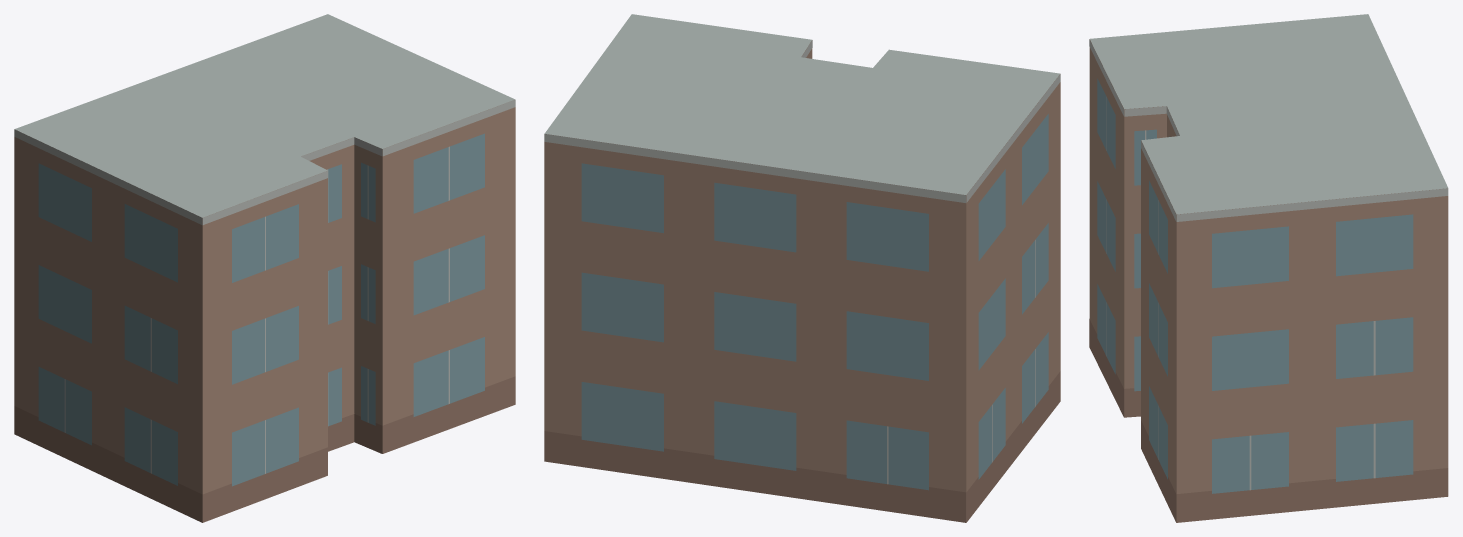
The model's file is survey-upis-32710149.glb.
3 renders of one model, left to right at view 1: azimuth 30°, elevation 25°; view 2: azimuth 150°, elevation 25°; view 3: azimuth 270°, elevation 25°, orthographic. The views are drawn at different scales.
Parts seen in each view (by area): view 1: survey-upis-32710149.tmp; view 2: survey-upis-32710149.tmp; view 3: survey-upis-32710149.tmp.
Boxes of the visible parts, left/top/right/bottom form: survey-upis-32710149.tmp: left=14, top=14, right=515, bottom=522; survey-upis-32710149.tmp: left=544, top=14, right=1060, bottom=522; survey-upis-32710149.tmp: left=1089, top=14, right=1448, bottom=522.
Bounding box in the file's own units: 13.81 × 9.9 × 10.45.
